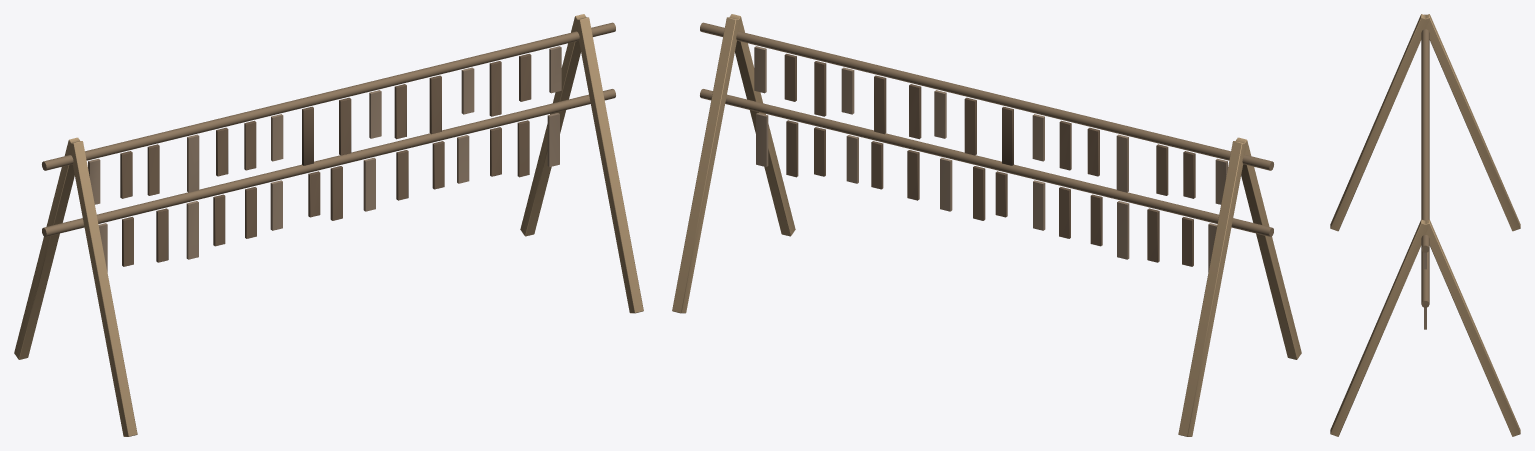
File: dh_fishrack.glb
The picture shows the model from 3 angles, left to right: view 1: azimuth 30°, elevation 25°; view 2: azimuth 150°, elevation 25°; view 3: azimuth 270°, elevation 25°; orthographic projection. The views are drawn at different scales.
Visible parts, largest first — view 1: dh_fishrack; view 2: dh_fishrack; view 3: dh_fishrack.
Boxes of the visible parts, x1,y1,x2,y2 form: dh_fishrack: [14, 14, 643, 436]; dh_fishrack: [672, 14, 1301, 436]; dh_fishrack: [1330, 14, 1520, 436].
Size of the model in its own units: 5.4 by 2.33 by 1.88.
